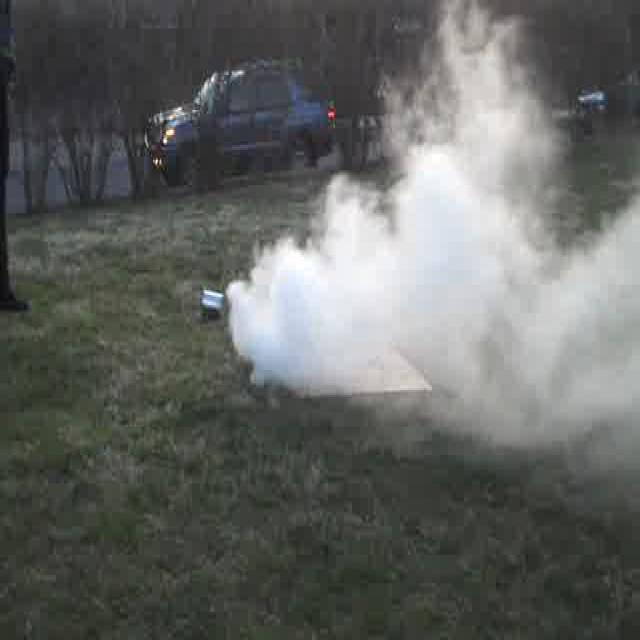Smoke: (236, 180, 631, 425)
